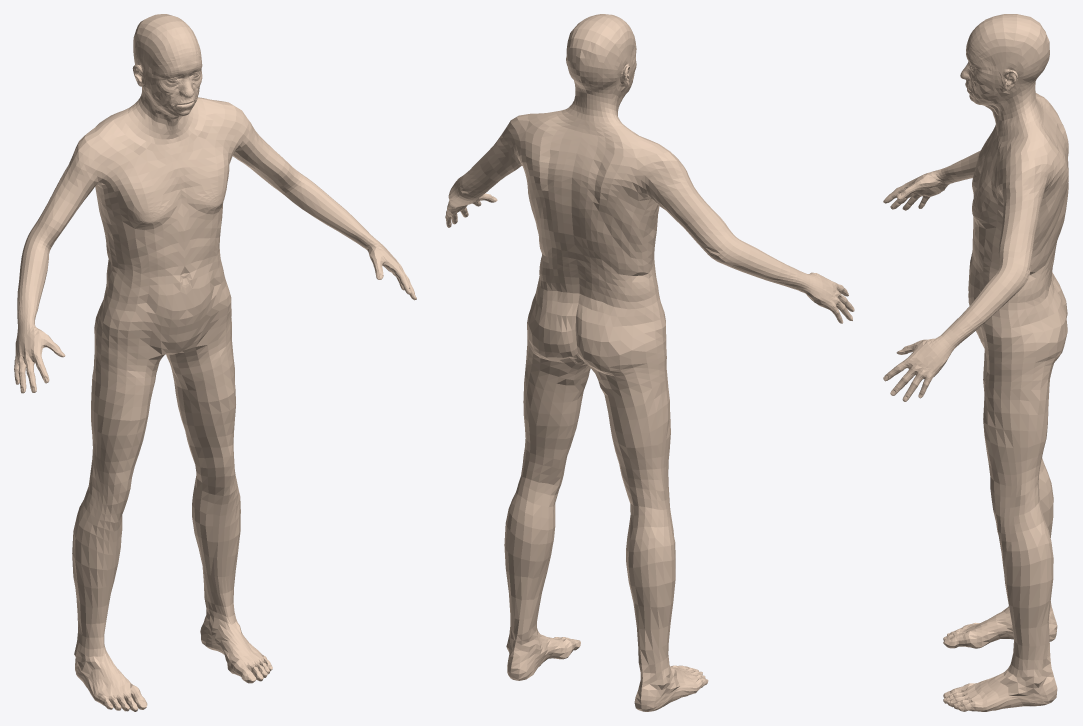
Rendered from male-older-lean-medium.glb.
3 views of the same model, side by side, from view 1: azimuth 30°, elevation 25°; view 2: azimuth 150°, elevation 25°; view 3: azimuth 270°, elevation 25° (orthographic).
Parts seen in each view (by area): view 1: world; view 2: world; view 3: world.
Part boxes in pixels (x1=…): world: x1=14, y1=14, x2=416, y2=711; world: x1=445, y1=14, x2=854, y2=711; world: x1=883, y1=14, x2=1068, y2=711.
Bounding box in the file's own units: 1.21 × 1.93 × 0.4929.
